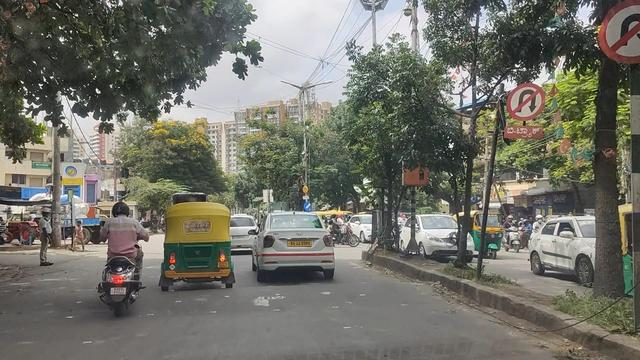LMV: (254, 205, 337, 278), (163, 207, 236, 286), (101, 207, 143, 316)
SpeedBump: (29, 282, 442, 319)
